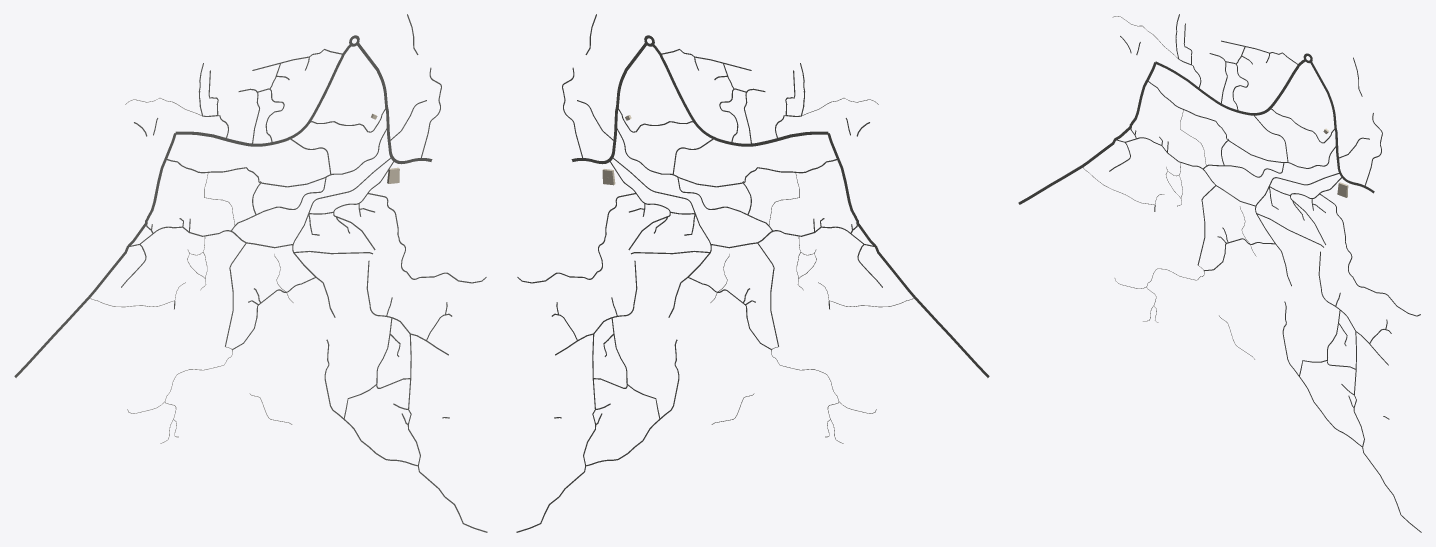
The model's file is historic-palestine-09_27_3505_3217.glb.
3 views of the same model, side by side, from view 1: azimuth 30°, elevation 25°; view 2: azimuth 150°, elevation 25°; view 3: azimuth 330°, elevation 25° (orthographic). The views are drawn at different scales.
Parts seen in each view (by area): view 1: Road 'Azzun, Road فارس العزوني, Road Al-Shuhada; view 2: Road 'Azzun, Road فارس العزوني, Road Al-Shuhada; view 3: Road 'Azzun, Road فارس العزوني.
Part boxes in pixels (x1,y1,x2,y2): Road 'Azzun: (14, 133, 175, 377); Road فارس العزوني: (175, 43, 351, 146); Road Al-Shuhada: (357, 42, 432, 164); Road 'Azzun: (828, 133, 989, 377); Road فارس العزوني: (652, 43, 828, 146); Road Al-Shuhada: (571, 42, 647, 164); Road 'Azzun: (1018, 62, 1156, 204); Road فارس العزوني: (1155, 59, 1305, 115).
Bounding box in the file's own units: 1333 × 1451 × 8.89.
